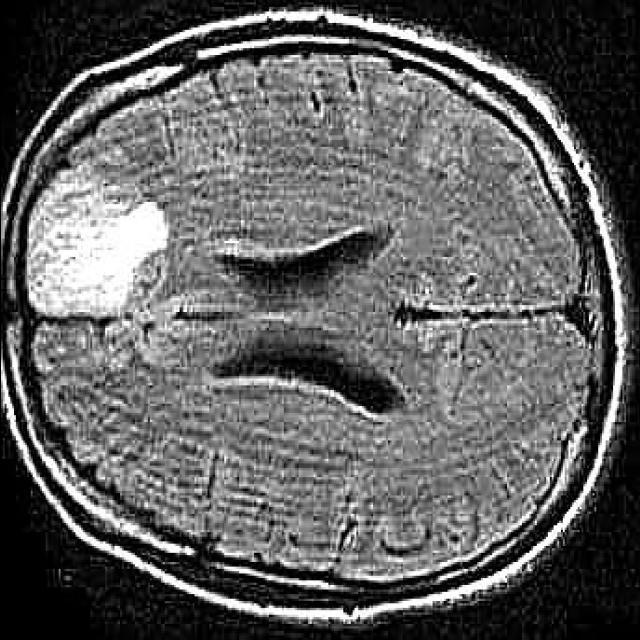tumor: (26, 186, 169, 321)
